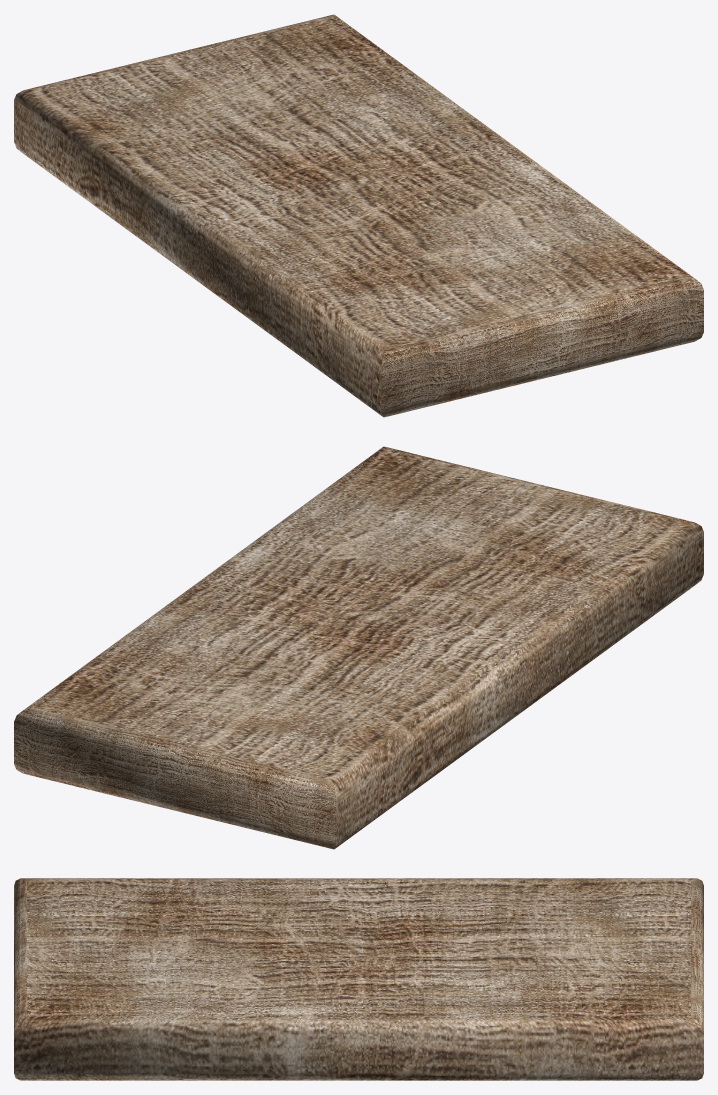
Rendered from bed-01-mattress.fbx.
3 views of the same model, one above another, from view 1: azimuth 30°, elevation 25°; view 2: azimuth 150°, elevation 25°; view 3: azimuth 270°, elevation 25° (orthographic). The views are drawn at different scales.
Parts seen in each view (by area): view 1: Cube.263; view 2: Cube.263; view 3: Cube.263.
Boxes of the visible parts, bbox=[...] form: Cube.263: bbox=[14, 14, 703, 417]; Cube.263: bbox=[14, 446, 703, 849]; Cube.263: bbox=[14, 878, 703, 1080].
Bounding box in the file's own units: 0.9292 × 0.1838 × 1.83.
